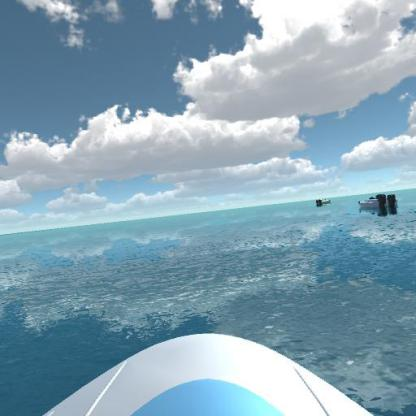usv0: (314, 194, 332, 209)
usv1: (355, 190, 404, 216)
